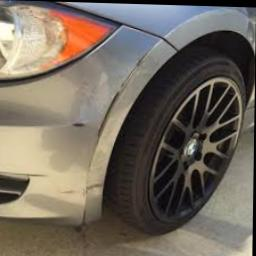Bumper: (51, 23, 178, 222)
